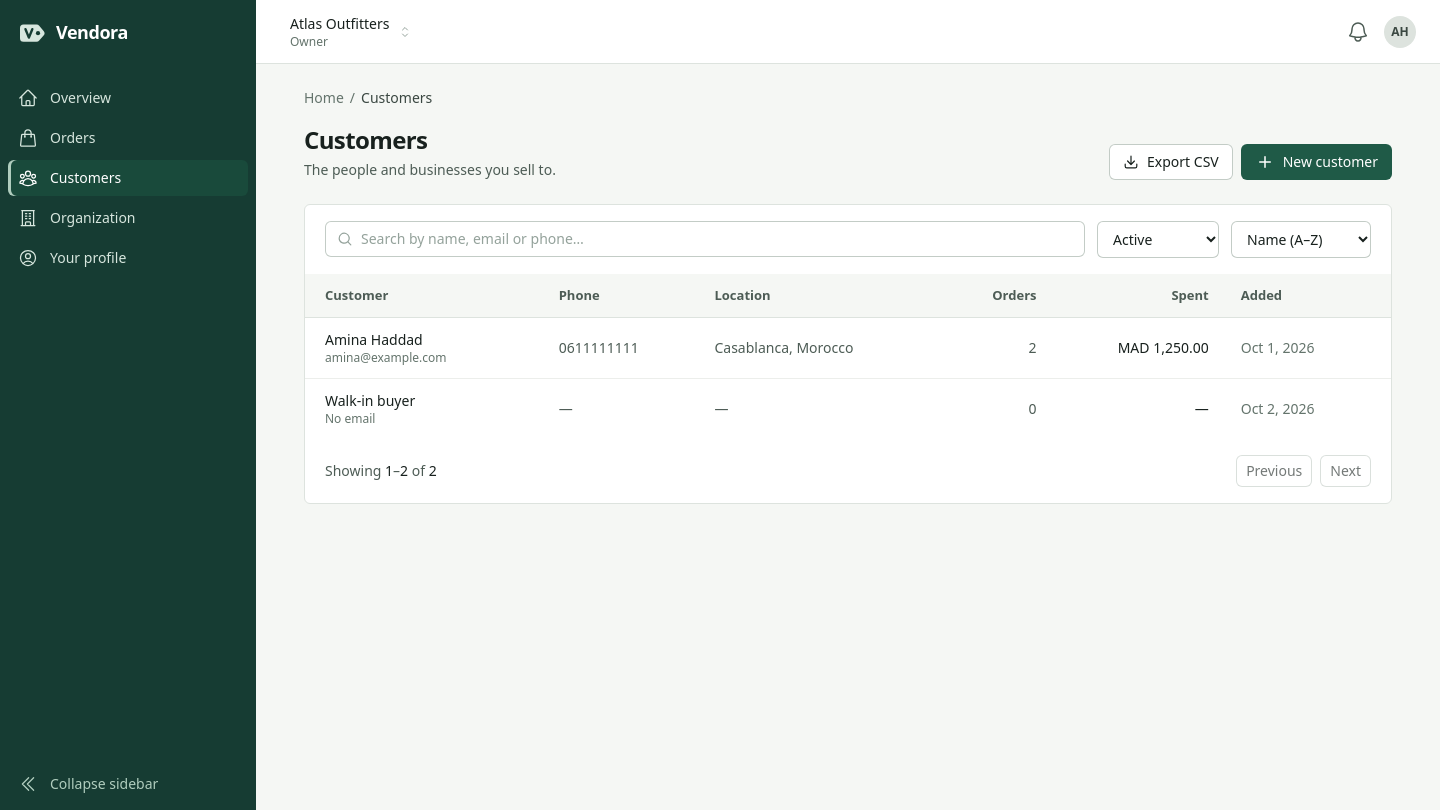
Test: customers list › a duplicate email from the server is shown on the email field
Click the button "New customer" at x=1316, y=162, box left=1241, top=144, right=1392, bottom=180
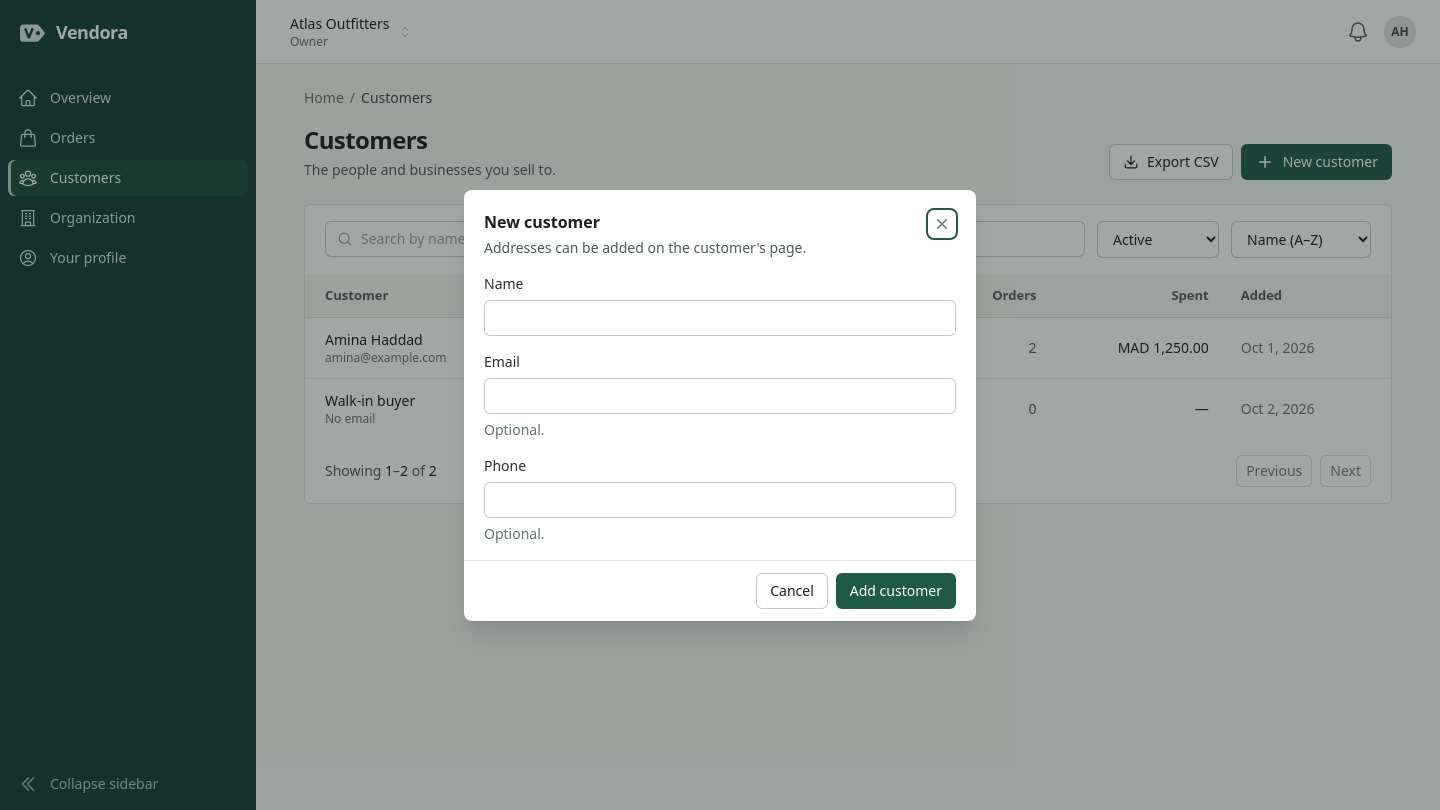
Type "Amina" into the field labelled "Name" at x=720, y=318, box left=484, top=300, right=956, bottom=336
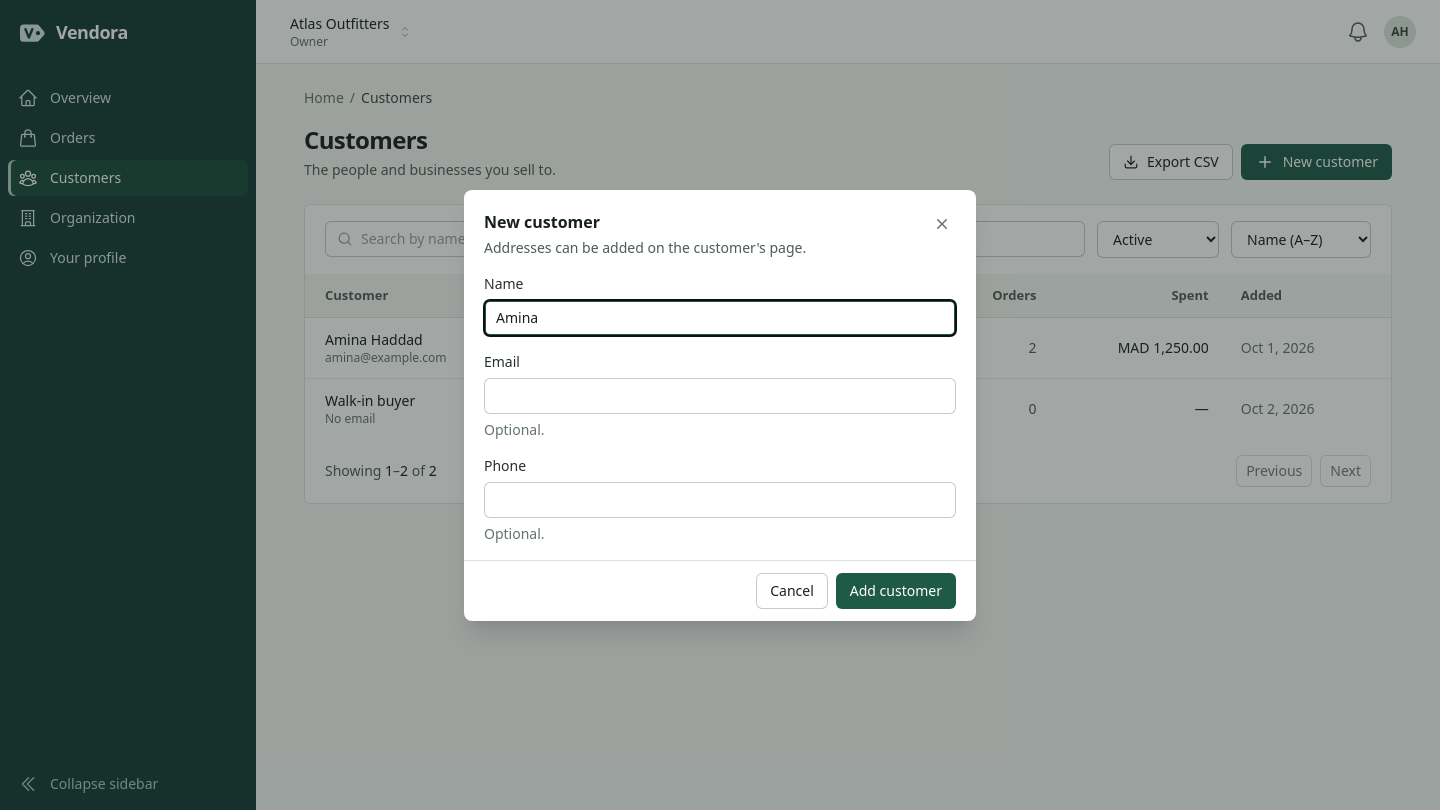
Type "amina@example.com" into the field labelled "Email" at x=720, y=396, box left=484, top=378, right=956, bottom=414
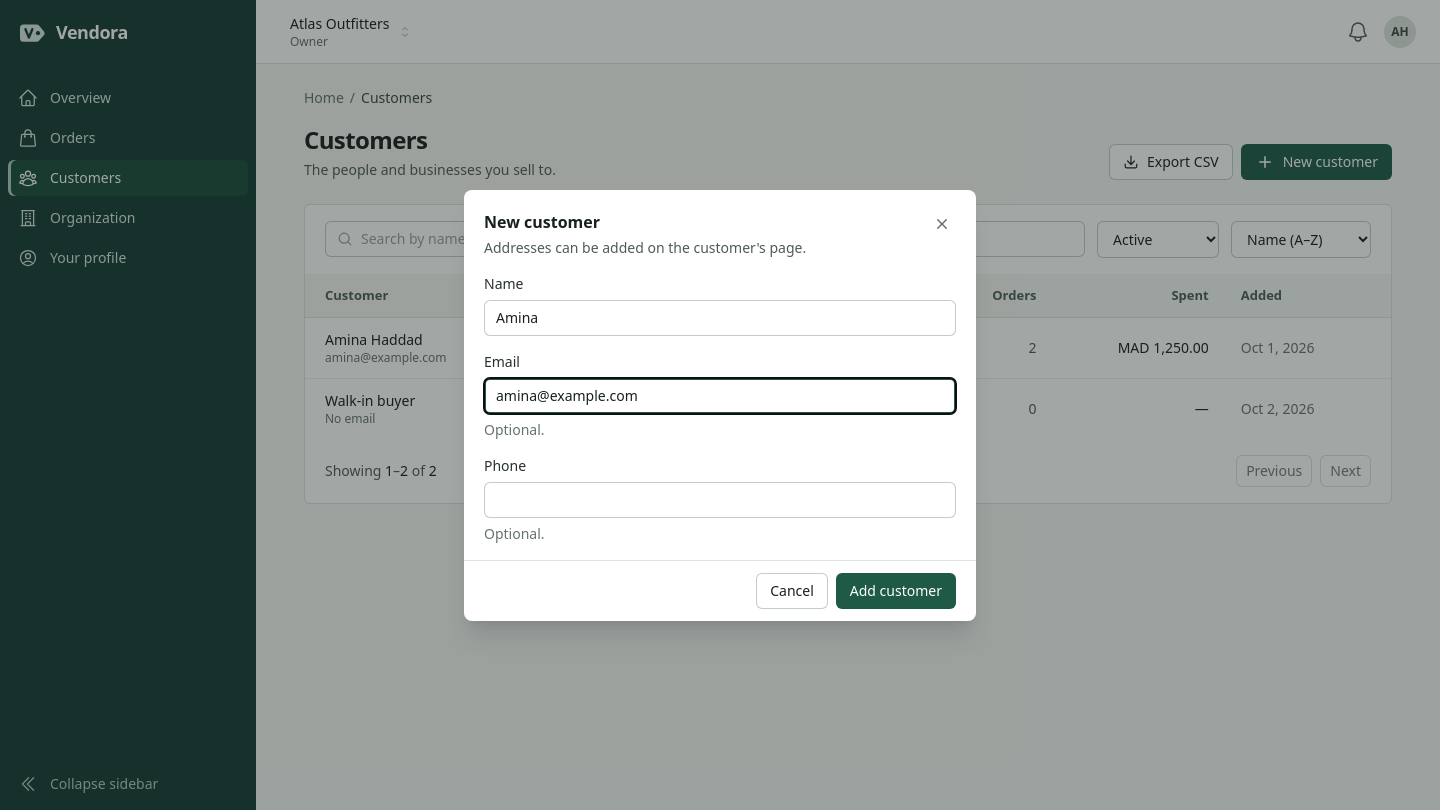
Click the button "Add customer" at x=896, y=590, box left=836, top=572, right=956, bottom=608
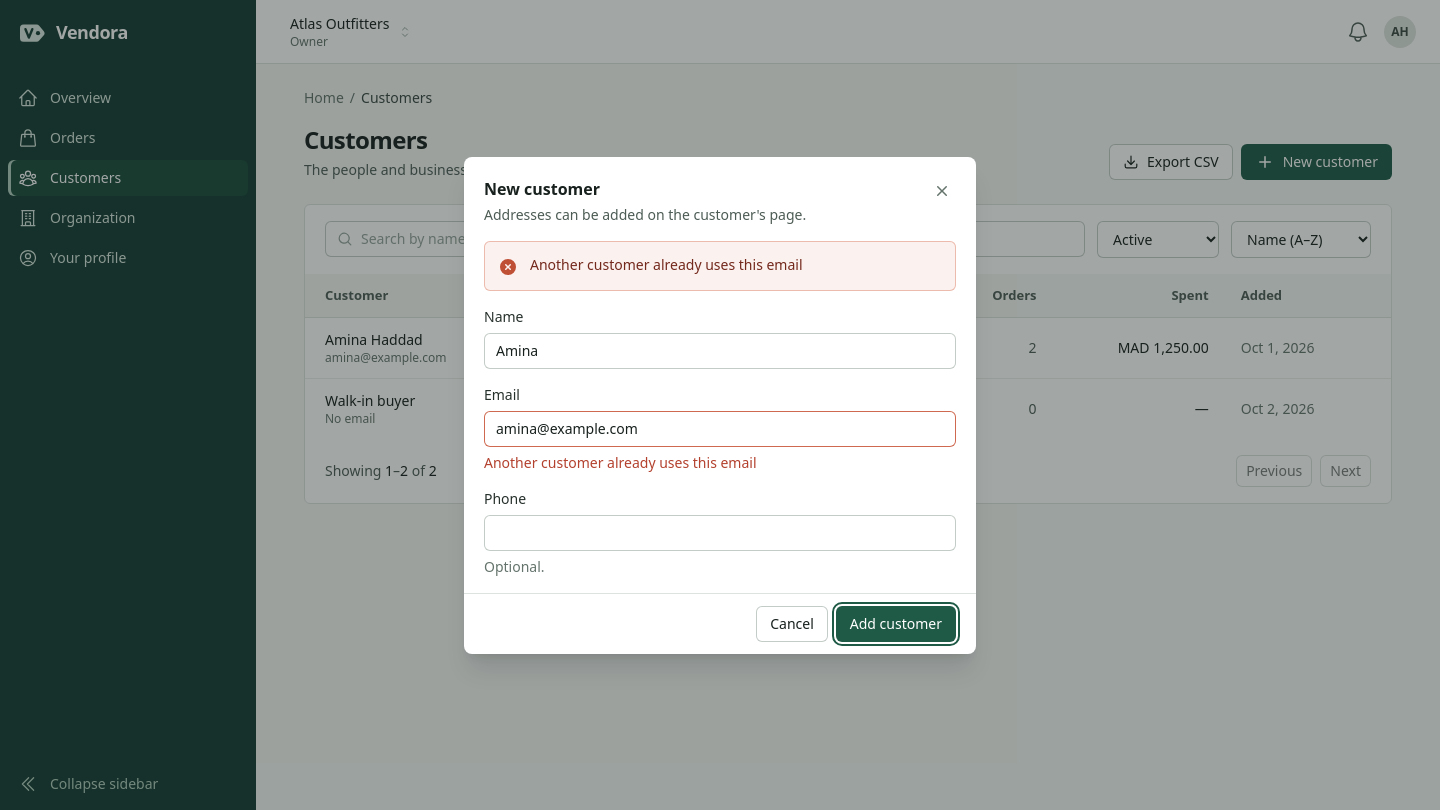
Result: the 2nd text "Another customer already uses this email" is shown at left=484, top=452, right=756, bottom=472
